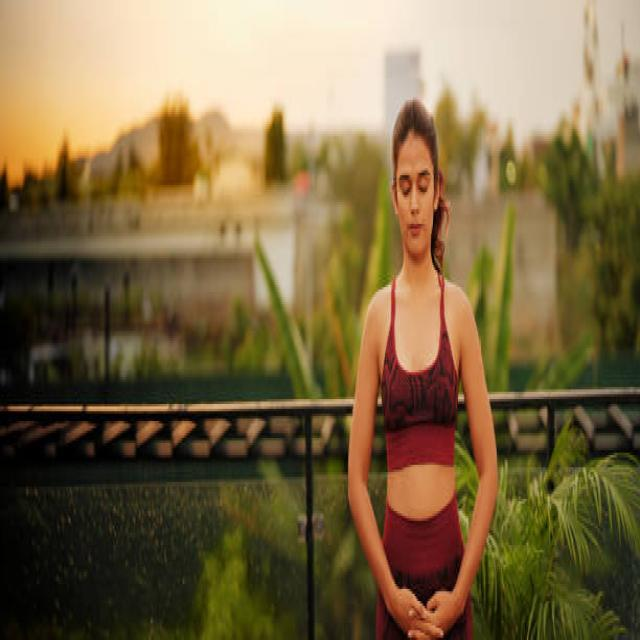no_helmet: (373, 217, 449, 282)
